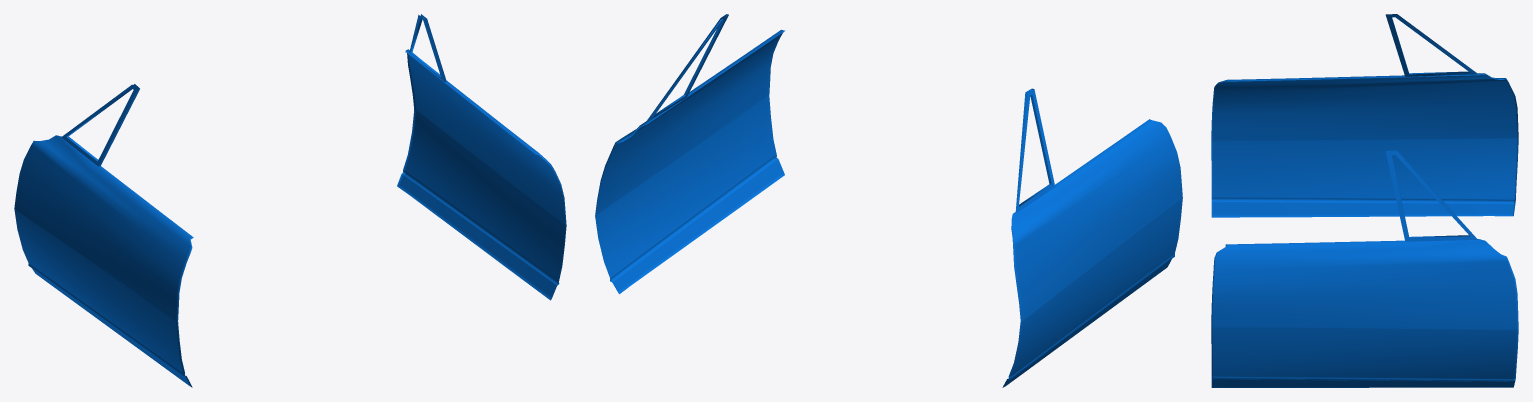
Rendered from Camaro_Chassis_Duco.fbx.
3 renders of one model, left to right at view 1: azimuth 30°, elevation 25°; view 2: azimuth 150°, elevation 25°; view 3: azimuth 270°, elevation 25°, orthographic. The views are drawn at different scales.
Parts seen in each view (by area): view 1: Camaro_Chassis_Duco; view 2: Camaro_Chassis_Duco; view 3: Camaro_Chassis_Duco.
Boxes of the visible parts, x1,y1,x2,y2 form: Camaro_Chassis_Duco: (14, 14, 566, 387); Camaro_Chassis_Duco: (595, 14, 1182, 387); Camaro_Chassis_Duco: (1211, 14, 1518, 387).
Bounding box in the file's own units: 1.85 × 1.26 × 0.9917.
